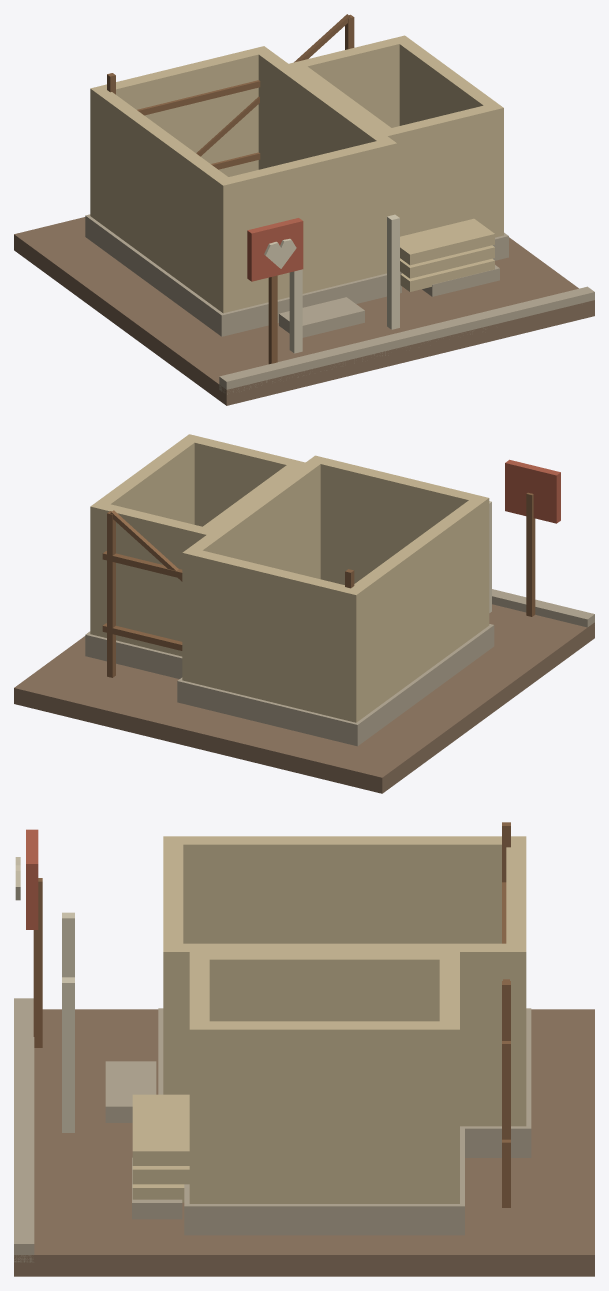
The model's file is hospital-half-built.glb.
3 views of the same model, one above another, from view 1: azimuth 30°, elevation 25°; view 2: azimuth 150°, elevation 25°; view 3: azimuth 270°, elevation 25° (orthographic). The views are drawn at different scales.
Parts seen in each view (by area): view 1: hospital; view 2: hospital; view 3: hospital.
Boxes of the visible parts, <box> form: hospital: <box>14,14,594,405</box>; hospital: <box>14,434,594,793</box>; hospital: <box>14,822,594,1276</box>.
Bounding box in the file's own units: 2.88 × 1.38 × 2.88.
